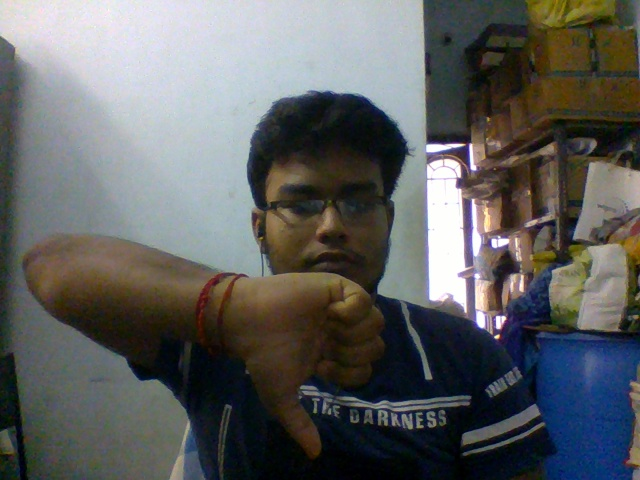ThumbsDown: (228, 272, 385, 462)
